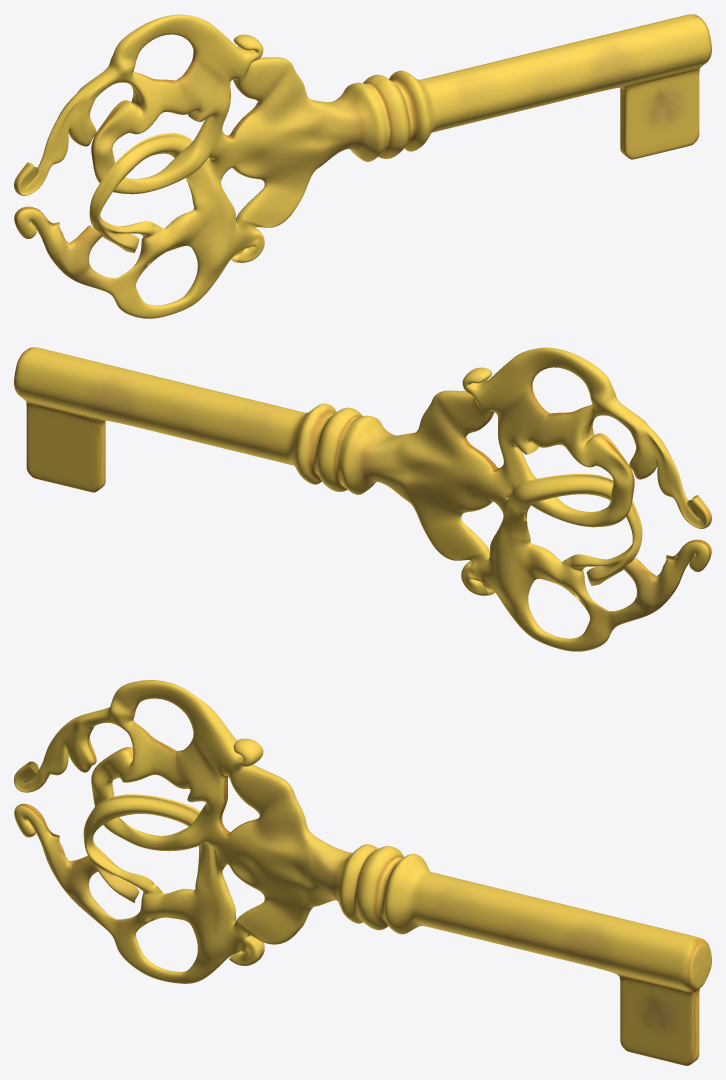
File: key.glb
The picture shows the model from 3 angles, top to bottom: view 1: azimuth 30°, elevation 25°; view 2: azimuth 150°, elevation 25°; view 3: azimuth 330°, elevation 25°; orthographic projection.
Parts seen in each view (by area): view 1: Plane.009; view 2: Plane.009; view 3: Plane.009.
Part boxes in pixels (x1=…): Plane.009: x1=14, y1=14, x2=711, y2=318; Plane.009: x1=14, y1=347, x2=711, y2=651; Plane.009: x1=14, y1=680, x2=711, y2=1065.
Bounding box in the file's own units: 9.21 × 3.83 × 0.9587.
1 material, 1 textured.
